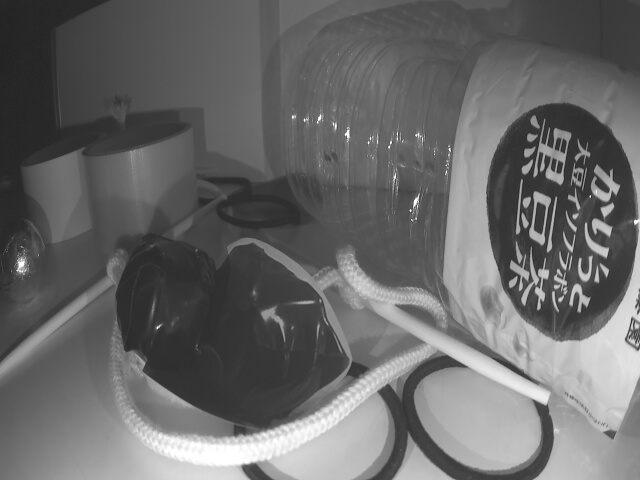Dead: (115, 237, 216, 359)
Live: (0, 221, 42, 301)
